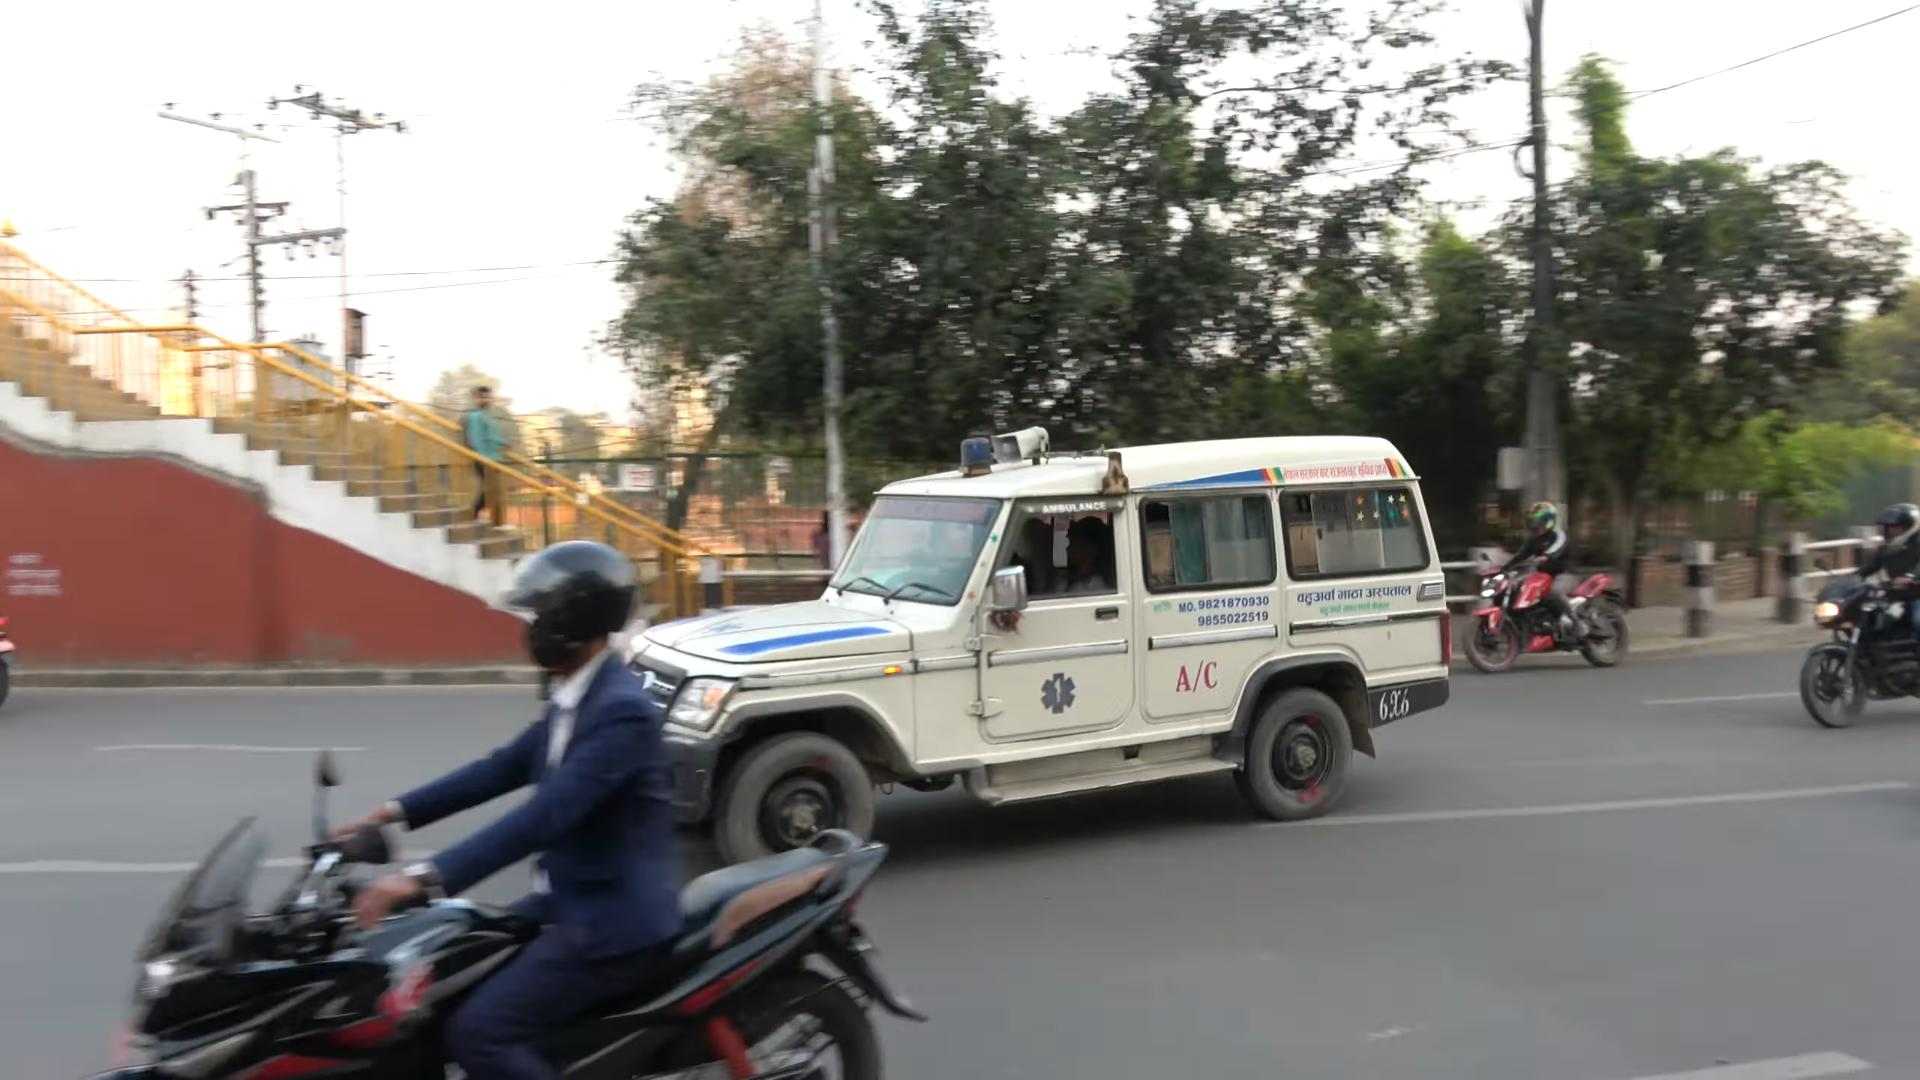ambulance: (613, 413, 1464, 889)
bike: (107, 749, 909, 1080), (1470, 551, 1638, 683), (1799, 566, 1920, 736)
